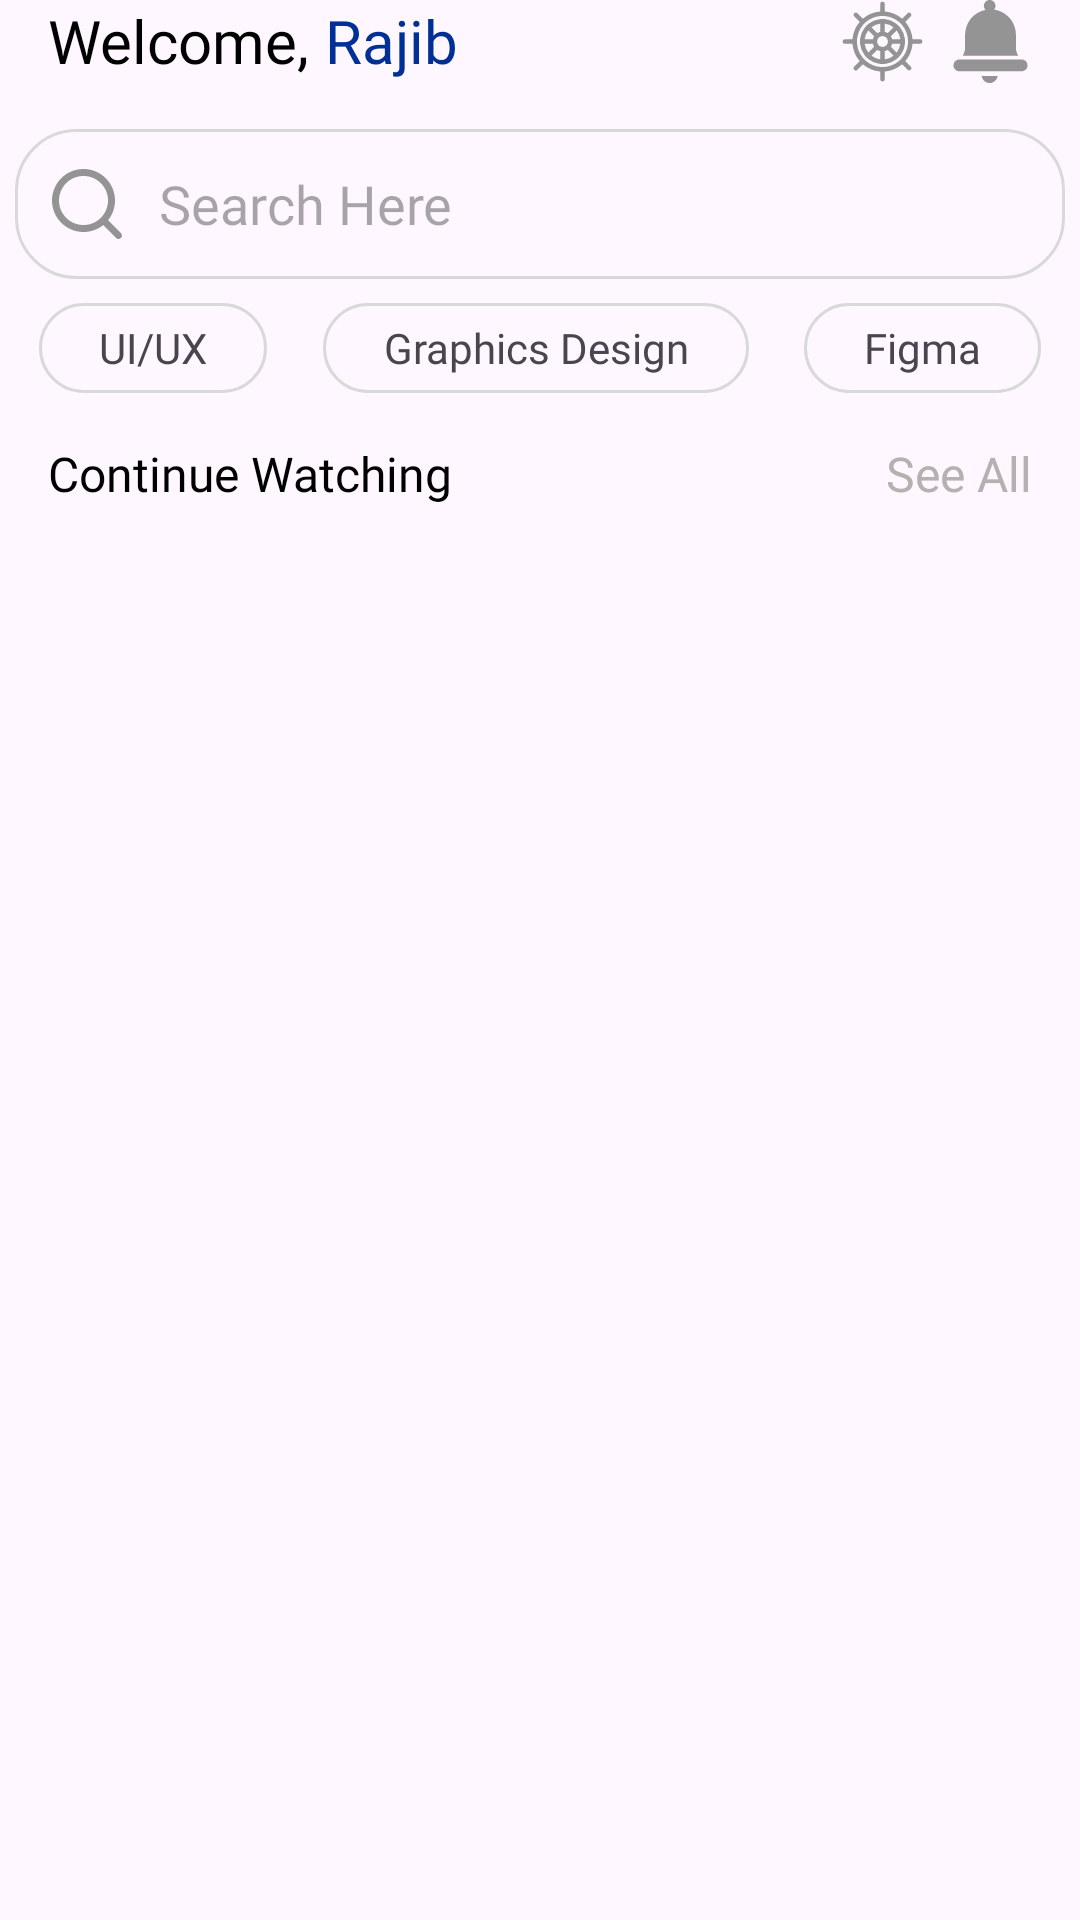

Icons on this 1080 x 1920 Android screen, each with its box as {"x1": x1, "y1": y1, "x2": x2, "y2": y2}:
bell: {"x1": 953, "y1": 0, "x2": 1028, "y2": 83}
wheel: {"x1": 842, "y1": 1, "x2": 923, "y2": 82}
